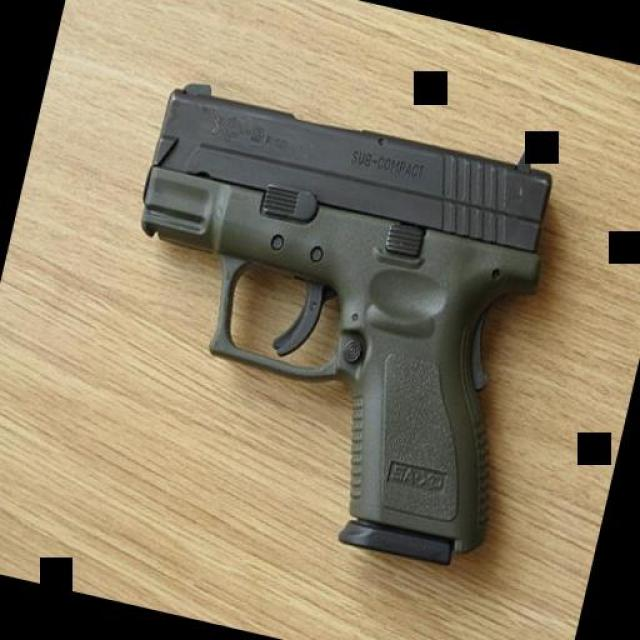gun: (73, 66, 575, 579)
